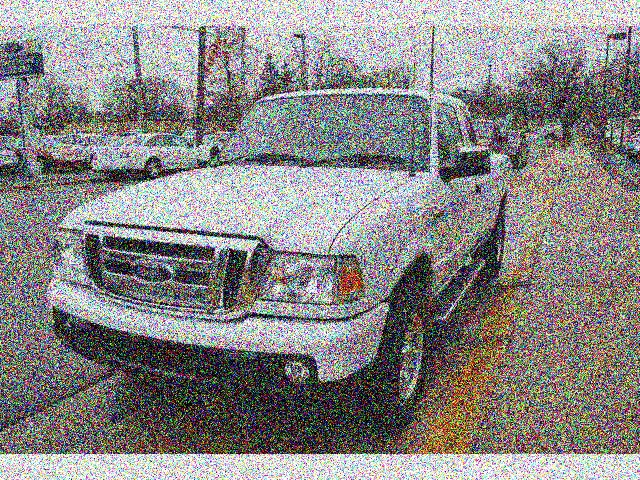car: (31, 79, 531, 452), (75, 117, 214, 189)
